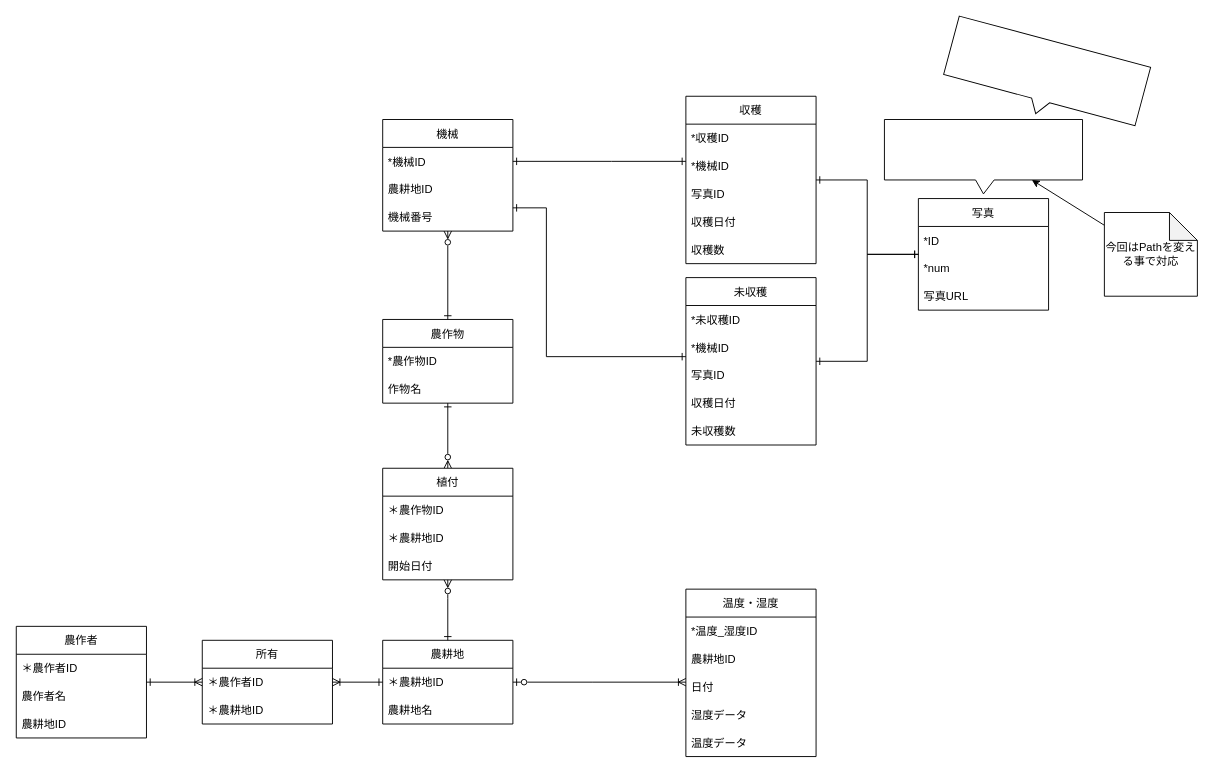
The diagram is 1214 pixels wide and 774 high, and some of its shapes have lost their labels. The centre of each missing label's shape, as x and y in pixels:
"*収穫と未収穫の識別子が必要 （写真ID の区別がつかなくなる）*" goes at point 983,156.
"例：a1,b1など" goes at point 1045,77.
